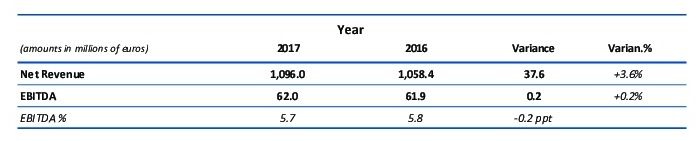table: (0, 0, 699, 141)
